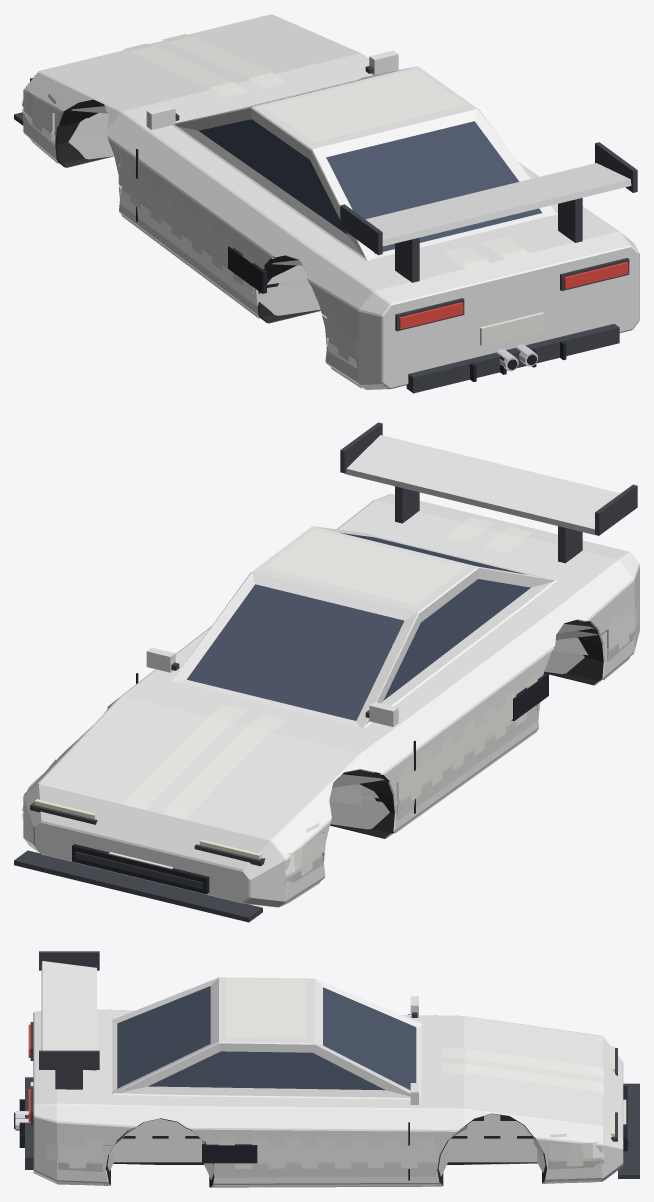
Rendered from lumikko.glb.
The picture shows the model from 3 angles, top to bottom: view 1: azimuth 30°, elevation 25°; view 2: azimuth 150°, elevation 25°; view 3: azimuth 270°, elevation 25°; orthographic projection. The views are drawn at different scales.
Parts seen in each view (by area): view 1: Body, Details, Pattern_TWO_TONE, Pattern_STRIPE, Pattern_SIDE_BAND, Pattern_CHECKER; view 2: Body, Details, Pattern_TWO_TONE, Pattern_STRIPE, Pattern_CHECKER, Pattern_SIDE_BAND; view 3: Body, Details, Pattern_TWO_TONE, Pattern_SIDE_BAND, Pattern_CHECKER, Pattern_STRIPE.
Part boxes in pixels (box(x1,y1,x2,y2)): Body: box(23, 14, 639, 389); Details: box(14, 50, 637, 393); Pattern_TWO_TONE: box(22, 69, 466, 388); Pattern_STRIPE: box(123, 34, 533, 272); Pattern_SIDE_BAND: box(22, 86, 366, 361); Pattern_CHECKER: box(32, 94, 348, 361); Body: box(23, 494, 639, 907); Details: box(14, 422, 637, 922); Pattern_TWO_TONE: box(22, 529, 635, 906); Pattern_STRIPE: box(122, 517, 533, 819); Pattern_CHECKER: box(48, 612, 628, 876); Pattern_SIDE_BAND: box(22, 603, 638, 875); Body: box(33, 977, 623, 1187); Details: box(14, 951, 639, 1180); Pattern_TWO_TONE: box(58, 978, 603, 1186); Pattern_SIDE_BAND: box(47, 1121, 603, 1161); Pattern_CHECKER: box(69, 1114, 583, 1168); Pattern_STRIPE: box(226, 996, 603, 1092).
Size of the model in its own units: 1.91 by 1.36 by 4.53.
